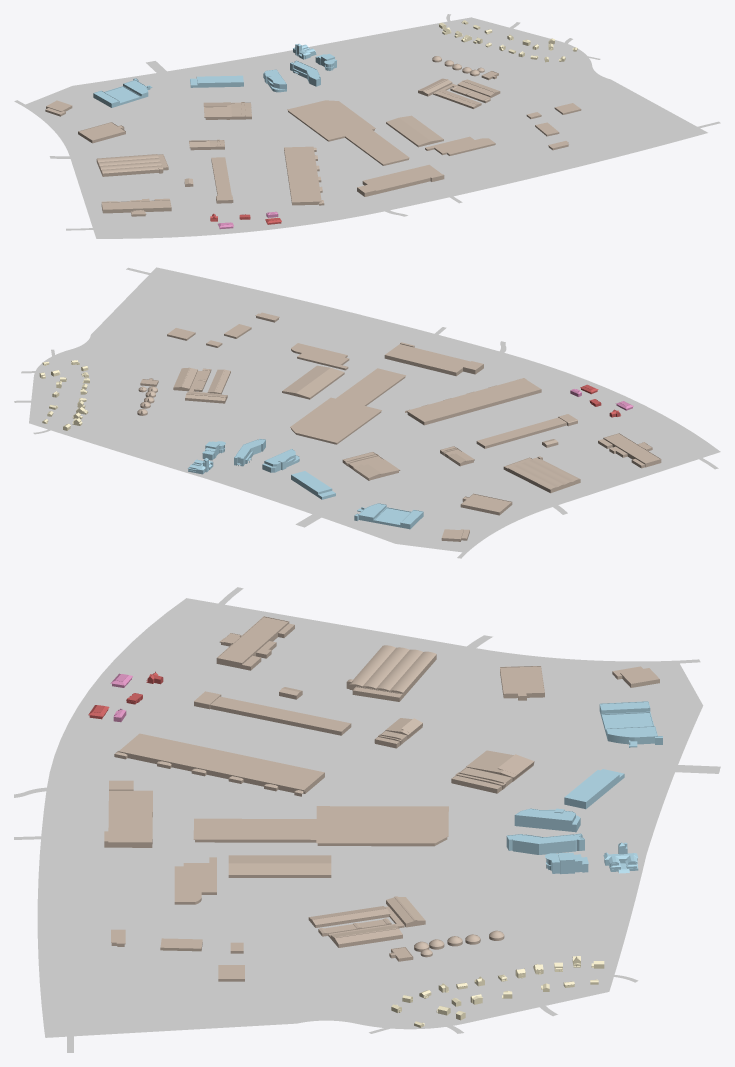
The model's file is Manufacturing_CC.glb.
The picture shows the model from 3 angles, top to bottom: view 1: azimuth 30°, elevation 25°; view 2: azimuth 150°, elevation 25°; view 3: azimuth 270°, elevation 25°; orthographic projection. The views are drawn at different scales.
Parts seen in each view (by area): view 1: Group1.004, IND9_1, industrial1, Heavy_Industrial_7_1, Heavy_Industrial_4_1, Heavy_Industrial_9_4_1.001, IND11_1, IND5_1, Heavy_Industrial_6_1_1, IND8_1, IND12_1, IND7_1 (+5 smaller); view 2: Group1.004, IND9_1, industrial1, Heavy_Industrial_7_1, Heavy_Industrial_4_1, IND5_1, IND11_1, Heavy_Industrial_9_4_1.001, IND12_1, Heavy_Industrial_6_1_1, IND8_1, IND7_1 (+3 smaller); view 3: Group1.004, IND9_1, industrial1, Heavy_Industrial_4_1, Heavy_Industrial_7_1, Heavy_Industrial_9_4_1.001, IND11_1, IND12_1, IND5_1, Heavy_Industrial_6_1_1, IND8_1, Group20.004 (+7 smaller).
Boxes of the visible parts, left/top/right/bottom form: Group1.004: left=14, top=14, right=720, bottom=238; IND9_1: left=287, top=100, right=409, bottom=165; industrial1: left=284, top=146, right=324, bottom=205; Heavy_Industrial_7_1: left=357, top=164, right=444, bottom=196; Heavy_Industrial_4_1: left=96, top=154, right=168, bottom=176; Heavy_Industrial_9_4_1.001: left=386, top=115, right=443, bottom=147; IND11_1: left=101, top=198, right=171, bottom=216; IND5_1: left=93, top=78, right=152, bottom=107; Heavy_Industrial_6_1_1: left=203, top=102, right=251, bottom=119; IND8_1: left=425, top=136, right=495, bottom=155; IND12_1: left=211, top=157, right=233, bottom=203; IND7_1: left=78, top=122, right=125, bottom=143; Group1.004: left=14, top=267, right=720, bottom=558; IND9_1: left=290, top=368, right=405, bottom=444; industrial1: left=405, top=378, right=541, bottom=425; Heavy_Industrial_7_1: left=384, top=342, right=483, bottom=376; Heavy_Industrial_4_1: left=503, top=456, right=580, bottom=493; IND5_1: left=354, top=503, right=423, bottom=529; IND11_1: left=598, top=433, right=661, bottom=468; Heavy_Industrial_9_4_1.001: left=282, top=365, right=344, bottom=399; IND12_1: left=476, top=414, right=577, bottom=448; Heavy_Industrial_6_1_1: left=342, top=452, right=400, bottom=480; IND8_1: left=291, top=343, right=349, bottom=370; IND7_1: left=460, top=493, right=512, bottom=515; Group1.004: left=14, top=587, right=720, bottom=1052; IND9_1: left=193, top=806, right=448, bottom=846; industrial1: left=114, top=733, right=324, bottom=796; Heavy_Industrial_4_1: left=346, top=645, right=436, bottom=701; Heavy_Industrial_7_1: left=104, top=780, right=152, bottom=847; Heavy_Industrial_9_4_1.001: left=228, top=855, right=331, bottom=877; IND11_1: left=216, top=616, right=294, bottom=670; IND12_1: left=194, top=691, right=351, bottom=735; IND5_1: left=599, top=701, right=662, bottom=747; Heavy_Industrial_6_1_1: left=451, top=750, right=534, bottom=793; IND8_1: left=174, top=857, right=216, bottom=904; Group20.004: left=506, top=833, right=584, bottom=854.
Bounding box in the file's own units: 44.42 × 0.8492 × 28.49.
